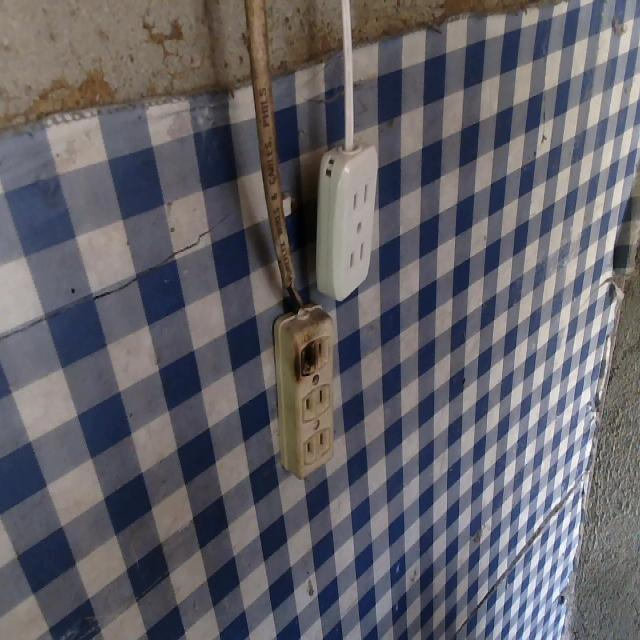-: (292, 334, 323, 382)
